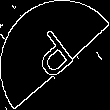P_SE: (27, 23, 83, 87)
